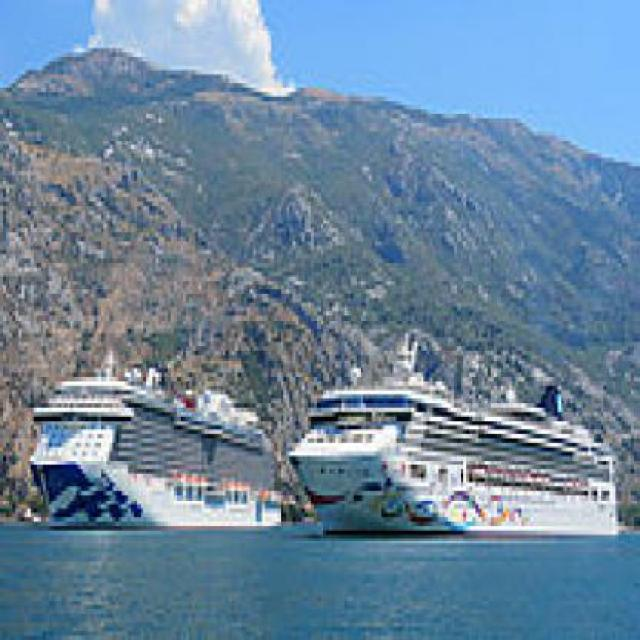cruise: (296, 347, 629, 549), (25, 356, 294, 540)
